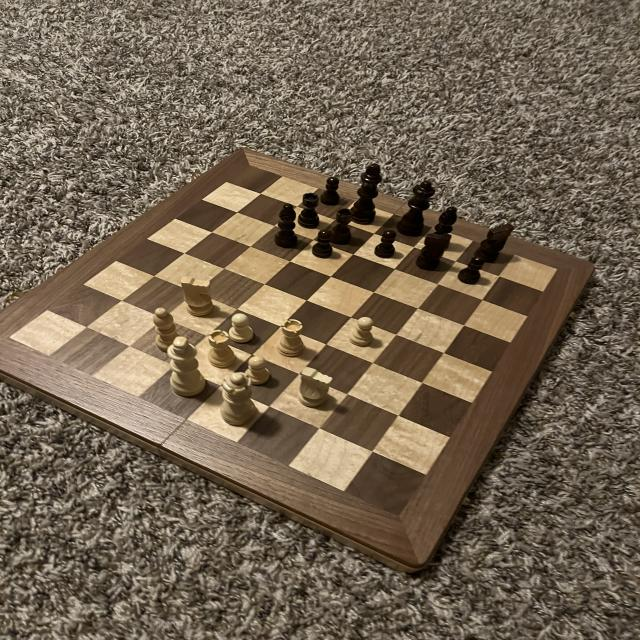bishop: (274, 202, 300, 250), (431, 206, 458, 250)
black-bishop: (345, 163, 385, 229)
black-king: (474, 223, 516, 263), (414, 230, 452, 271)
black-knight: (456, 256, 486, 287), (310, 229, 338, 260), (372, 228, 398, 261), (319, 175, 343, 204)
black-pawn: (392, 178, 435, 238)
black-queen: (327, 207, 358, 245), (297, 190, 322, 230)
black-rook: (151, 306, 184, 354)
white-bishop: (166, 335, 206, 400)
white-king: (178, 275, 220, 320), (296, 365, 331, 410)
white-knight: (242, 354, 273, 386), (227, 312, 257, 345), (347, 315, 377, 348)
white-pawn: (215, 371, 261, 427)
white-queen: (203, 328, 240, 370), (276, 318, 308, 358)
